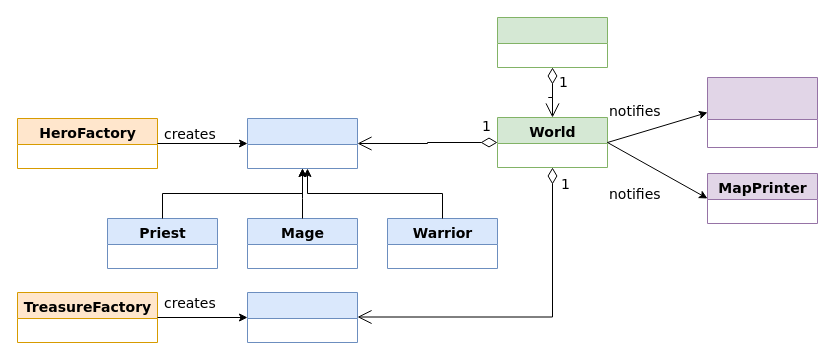
The diagram is 835 pixels wide and 360 high, and some of its shapes have lost their labels. Each missing label, with the box of its shape:
Hero: (246, 118, 358, 168)
Main: (496, 16, 608, 68)
Treasure: (246, 292, 358, 342)
Treasure Discoverer: (706, 76, 818, 148)
